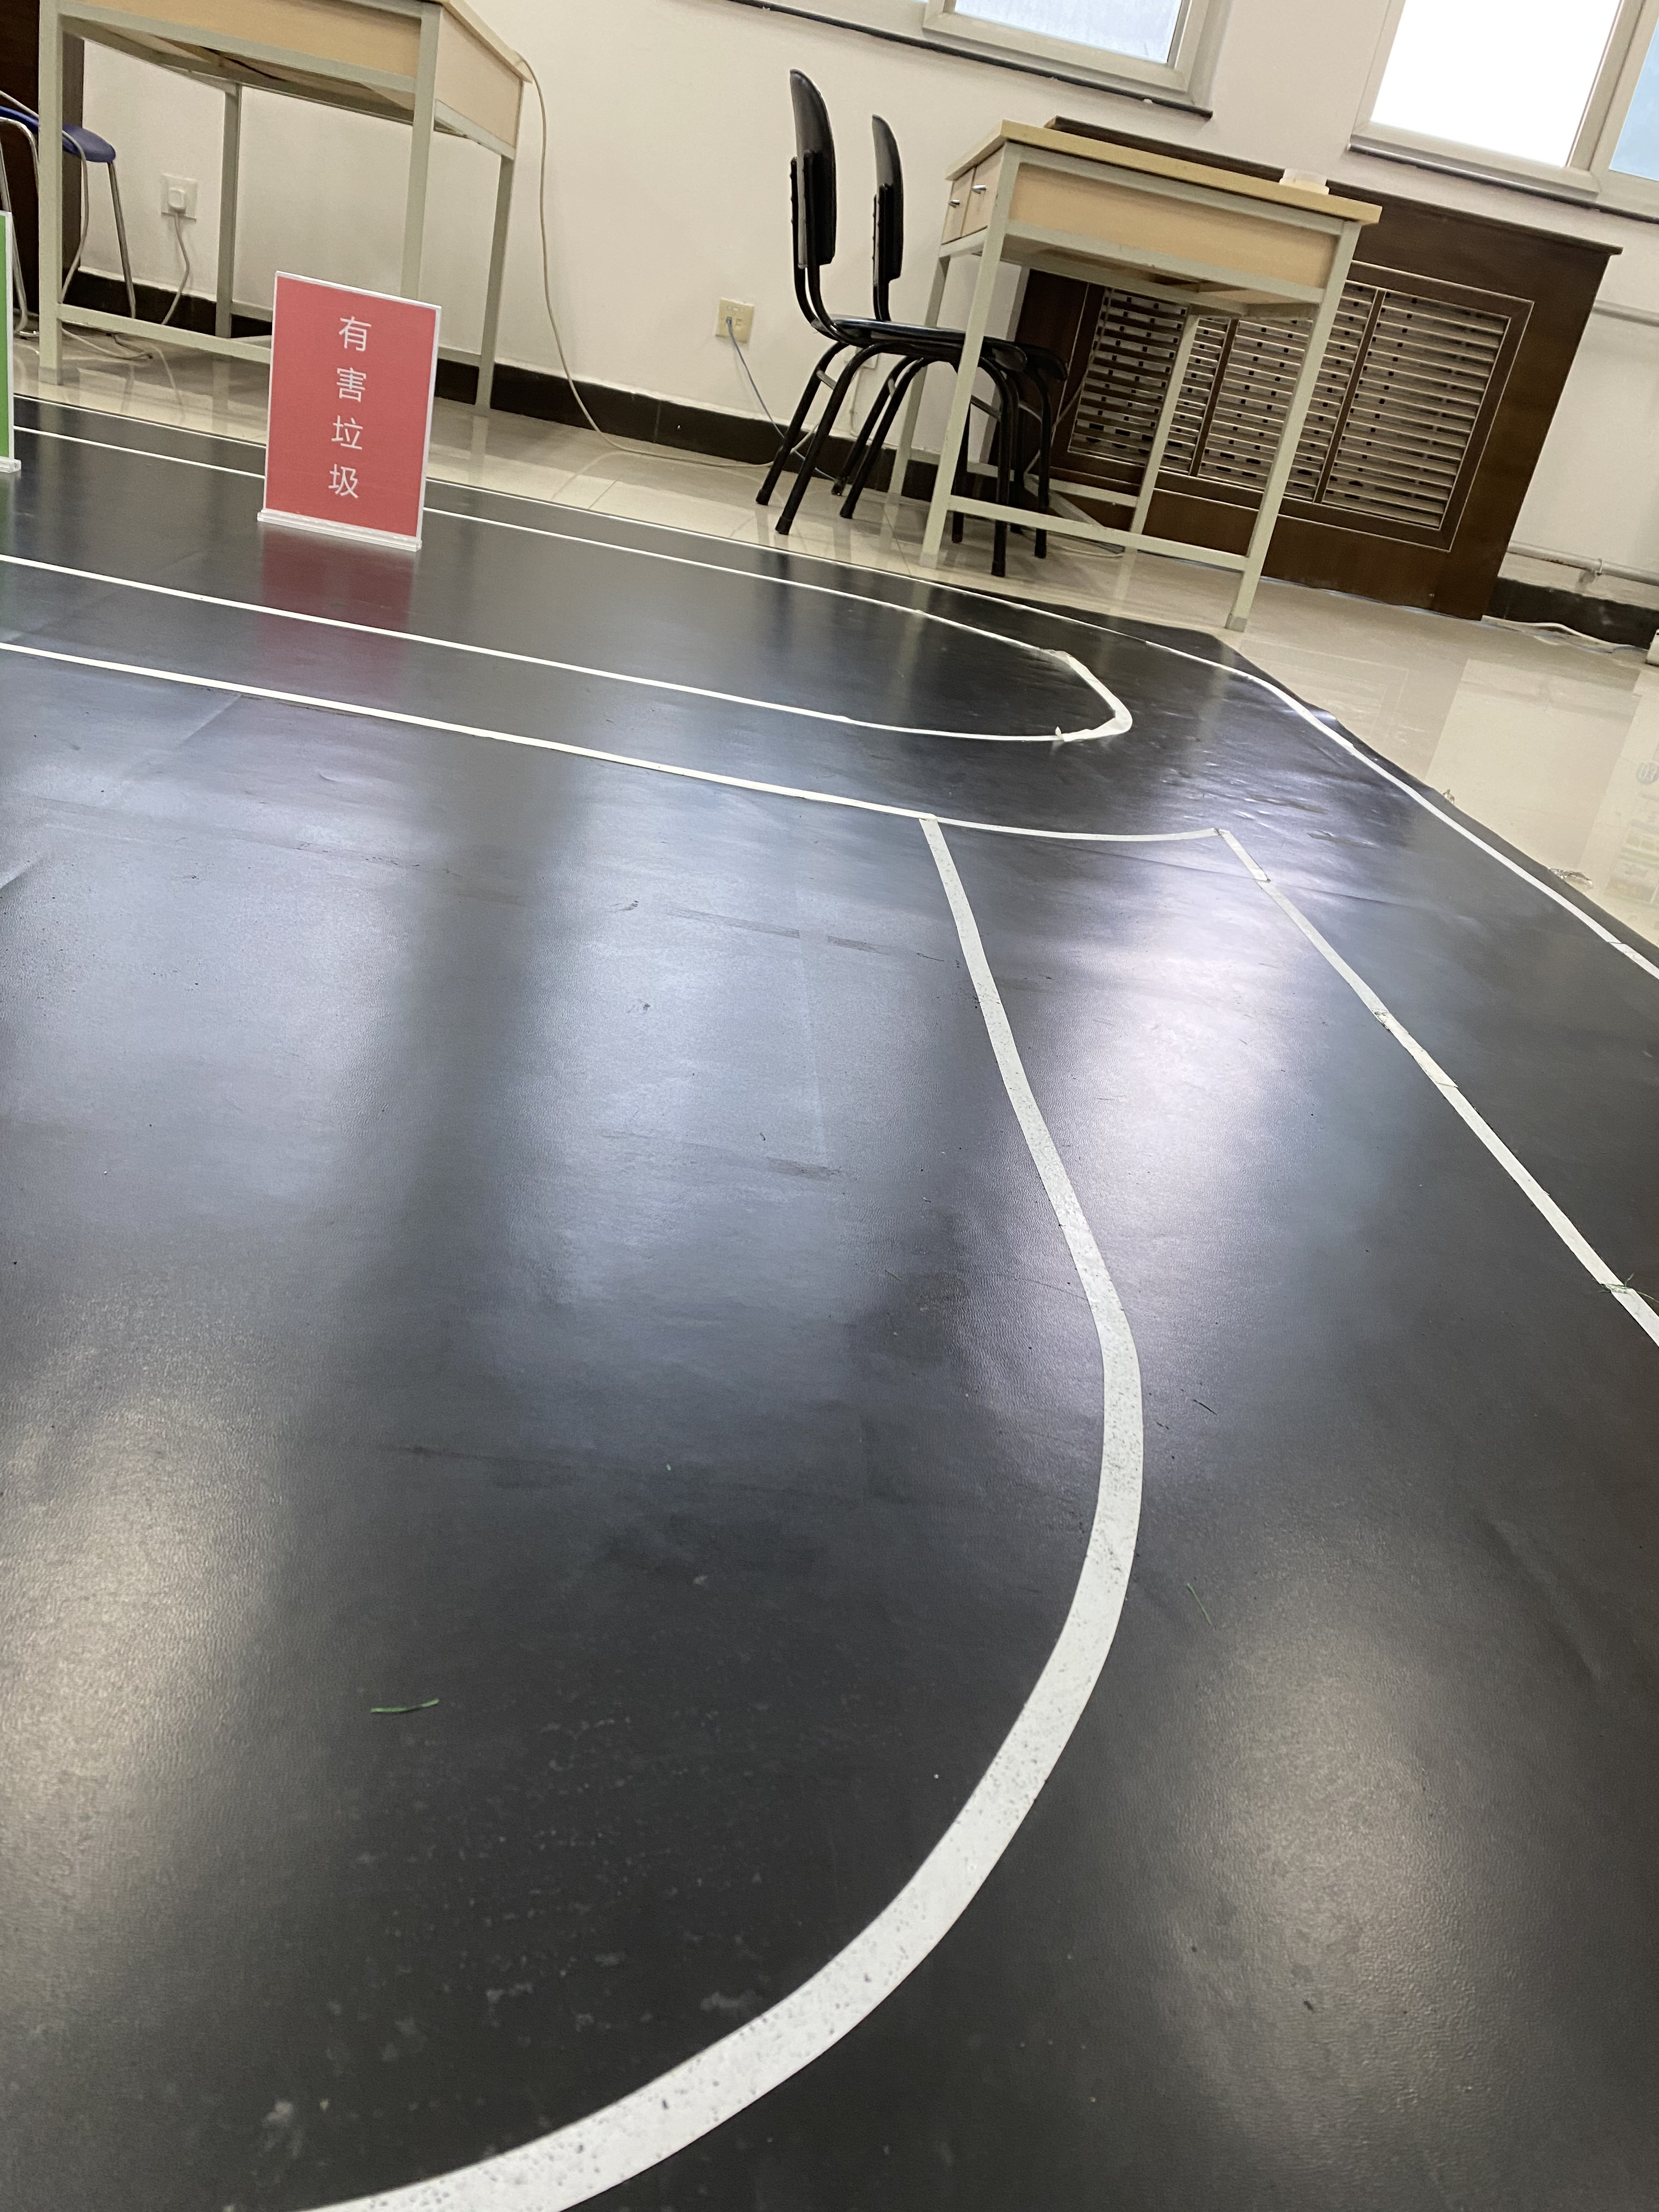red: (277, 294, 429, 523)
